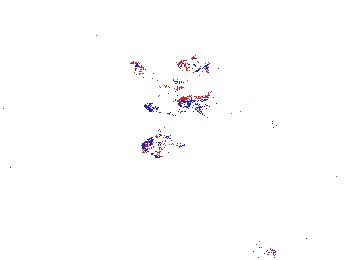X-ray fish: (141, 133, 192, 157), (132, 161, 168, 194), (253, 239, 276, 260)
red belly glassfish: (174, 56, 212, 72), (176, 93, 211, 108)
redtail glassfish: (130, 58, 185, 100), (236, 107, 283, 138), (322, 156, 346, 190)
